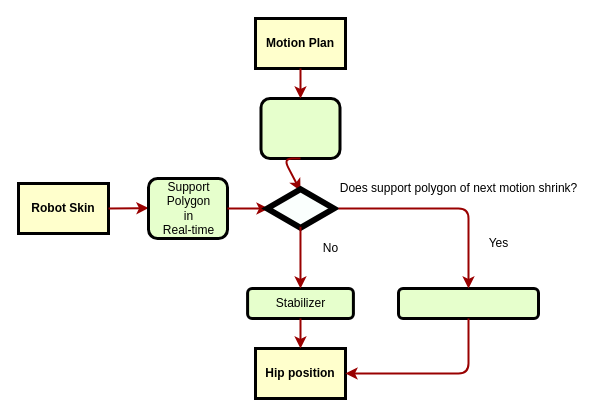
Some shapes in this 601 by 417 pixel diagram are drawn without their labels. The shapes that lost their labels are listed below. From the top down, each one's centre as x and y in pixels, then its label:
At (300,128): "Support Polygon of Next Motion".
At (468,303): "New Motion Plan".
